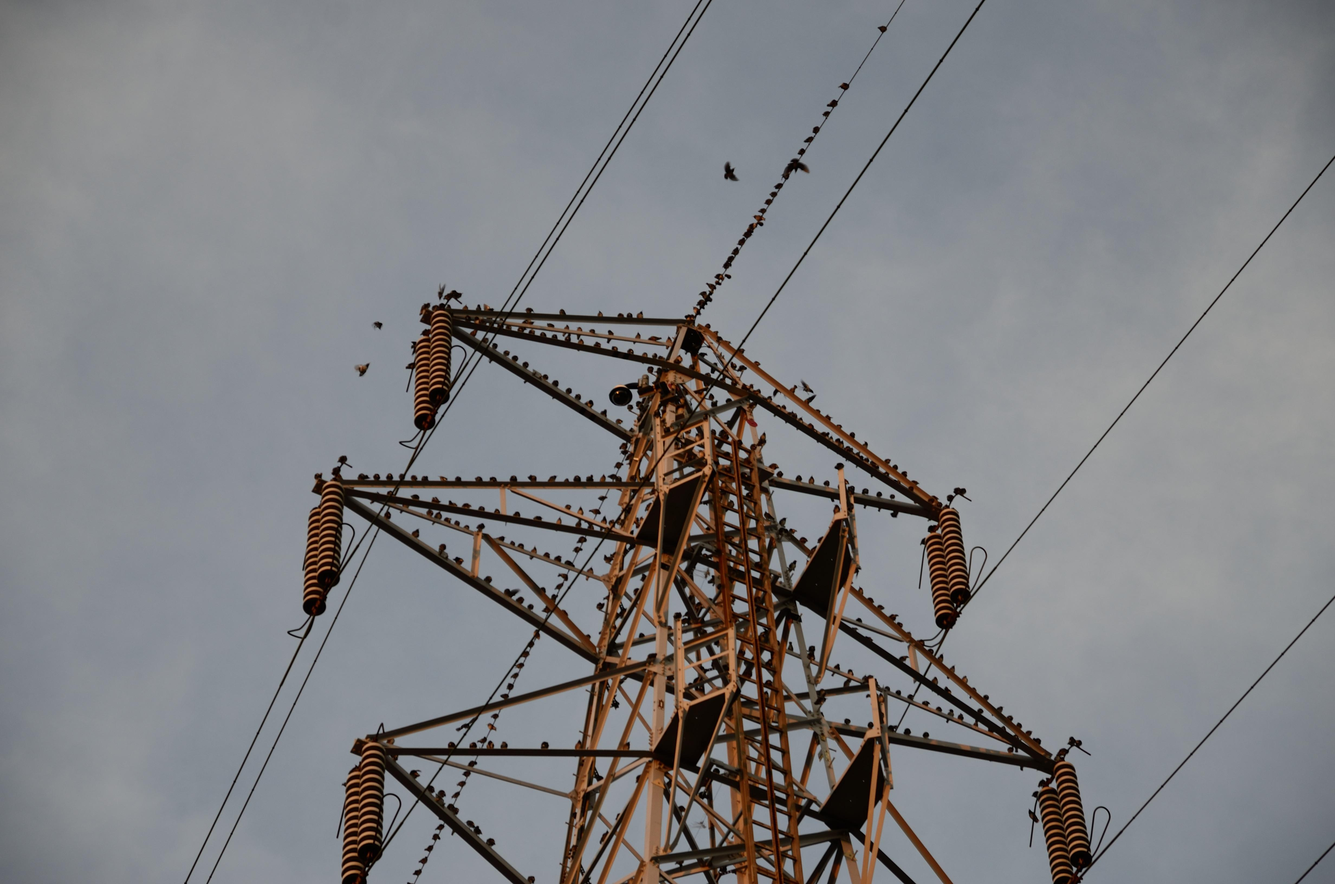power_tower: (300, 291, 1099, 884)
